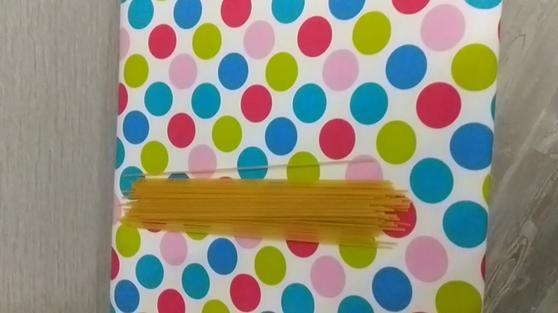spaghetti: (111, 147, 419, 254)
